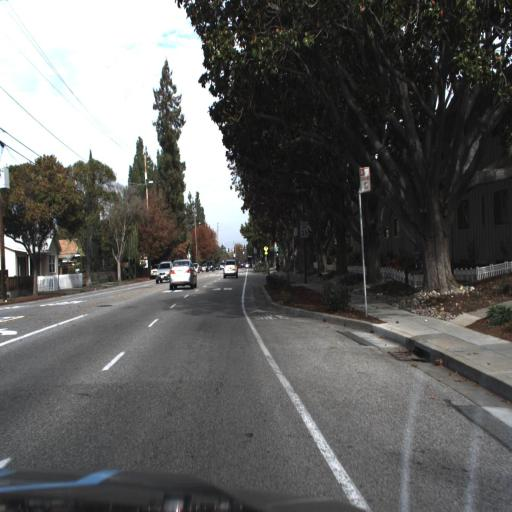car: (168, 255, 197, 289), (154, 259, 173, 285), (220, 259, 242, 279)
